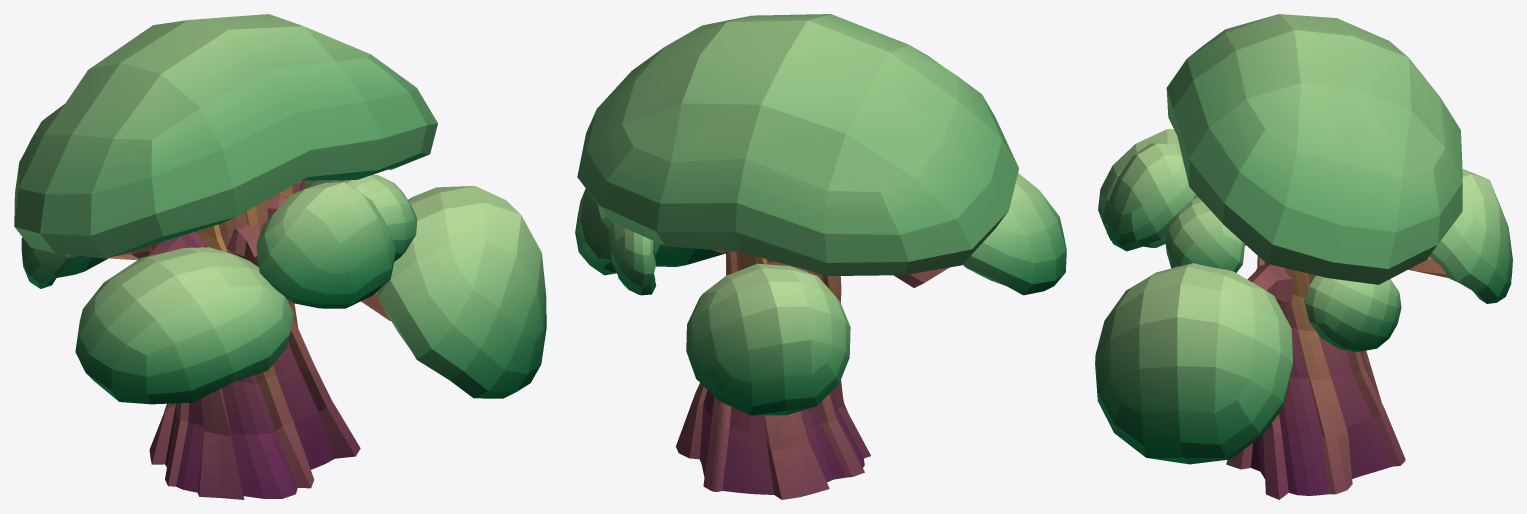
File: fatTree1.fbx
The picture shows the model from 3 angles, left to right: view 1: azimuth 30°, elevation 25°; view 2: azimuth 150°, elevation 25°; view 3: azimuth 270°, elevation 25°; orthographic projection. The views are drawn at different scales.
Visible parts, largest first — view 1: combinedTree; view 2: combinedTree; view 3: combinedTree.
Boxes of the visible parts, x1,y1,x2,y2 form: combinedTree: (14, 14, 546, 499); combinedTree: (575, 14, 1066, 499); combinedTree: (1095, 14, 1512, 499).
Size of the model in its own units: 6.76 by 6.22 by 5.7.
